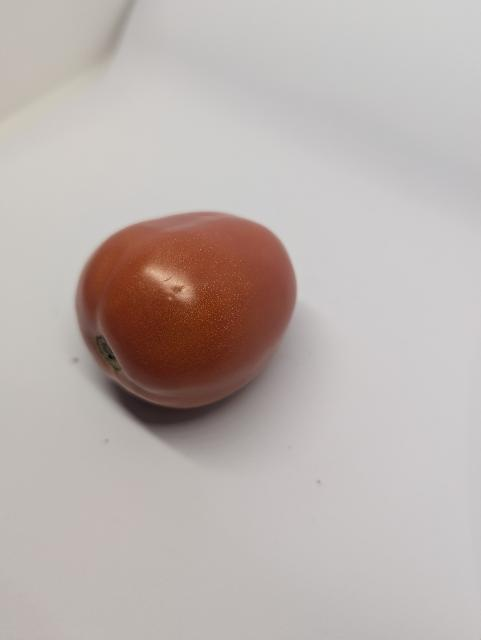red: (73, 209, 300, 410)
